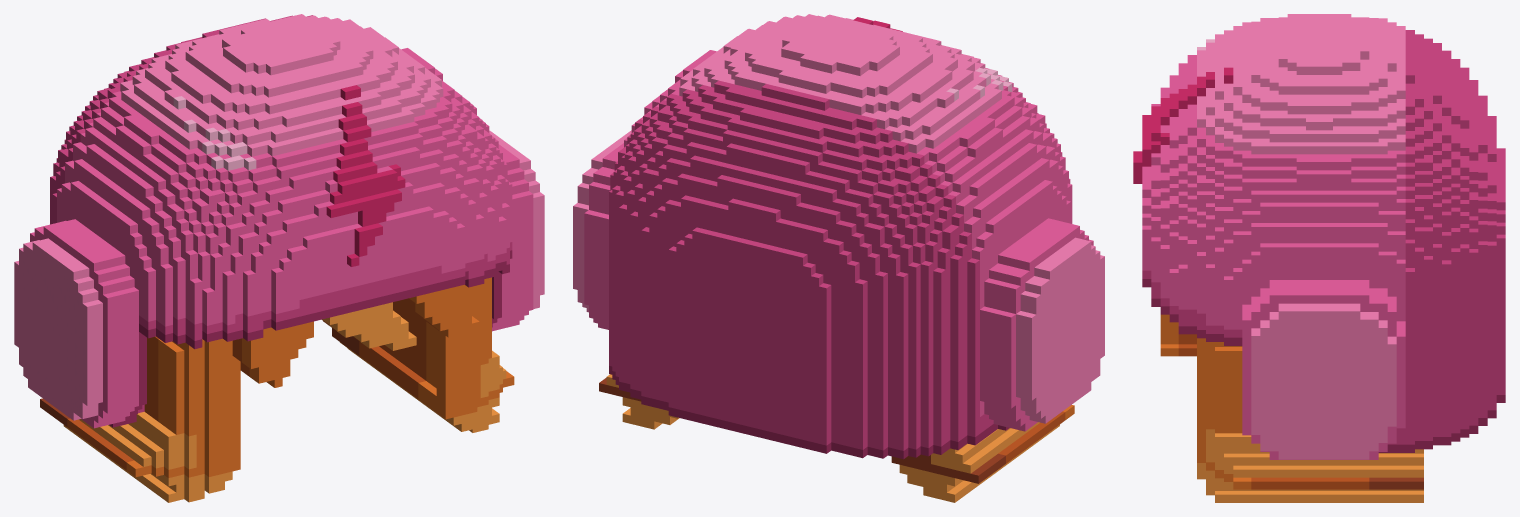
Rendered from crew_helmet.glb.
The picture shows the model from 3 angles, left to right: view 1: azimuth 30°, elevation 25°; view 2: azimuth 150°, elevation 25°; view 3: azimuth 270°, elevation 25°; orthographic projection.
Visible parts, largest first — view 1: CrewXL_Model; view 2: CrewXL_Model; view 3: CrewXL_Model.
Boxes of the visible parts, x1,y1,x2,y2 form: CrewXL_Model: [14, 14, 544, 502]; CrewXL_Model: [573, 14, 1104, 502]; CrewXL_Model: [1133, 14, 1505, 502].
Bounding box in the file's own units: 1.28 × 1.01 × 0.902.
Materials: 1 (1 with a texture image).
